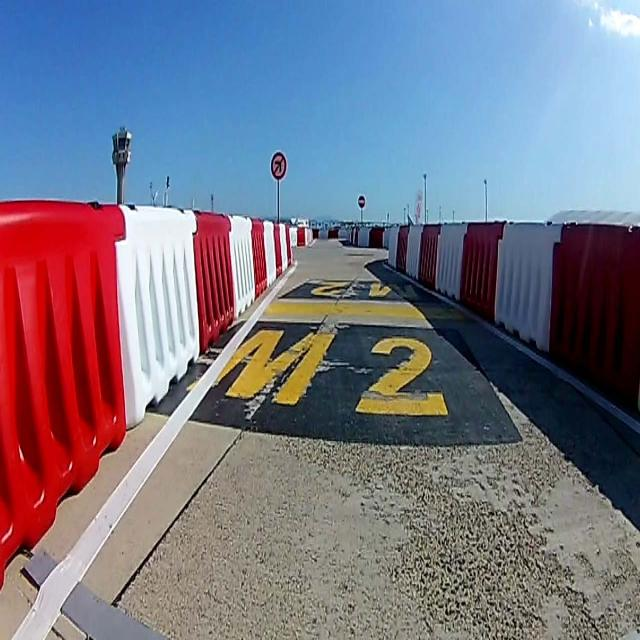girisyok: (357, 195, 366, 209)
soladonulmez: (270, 152, 286, 180)
